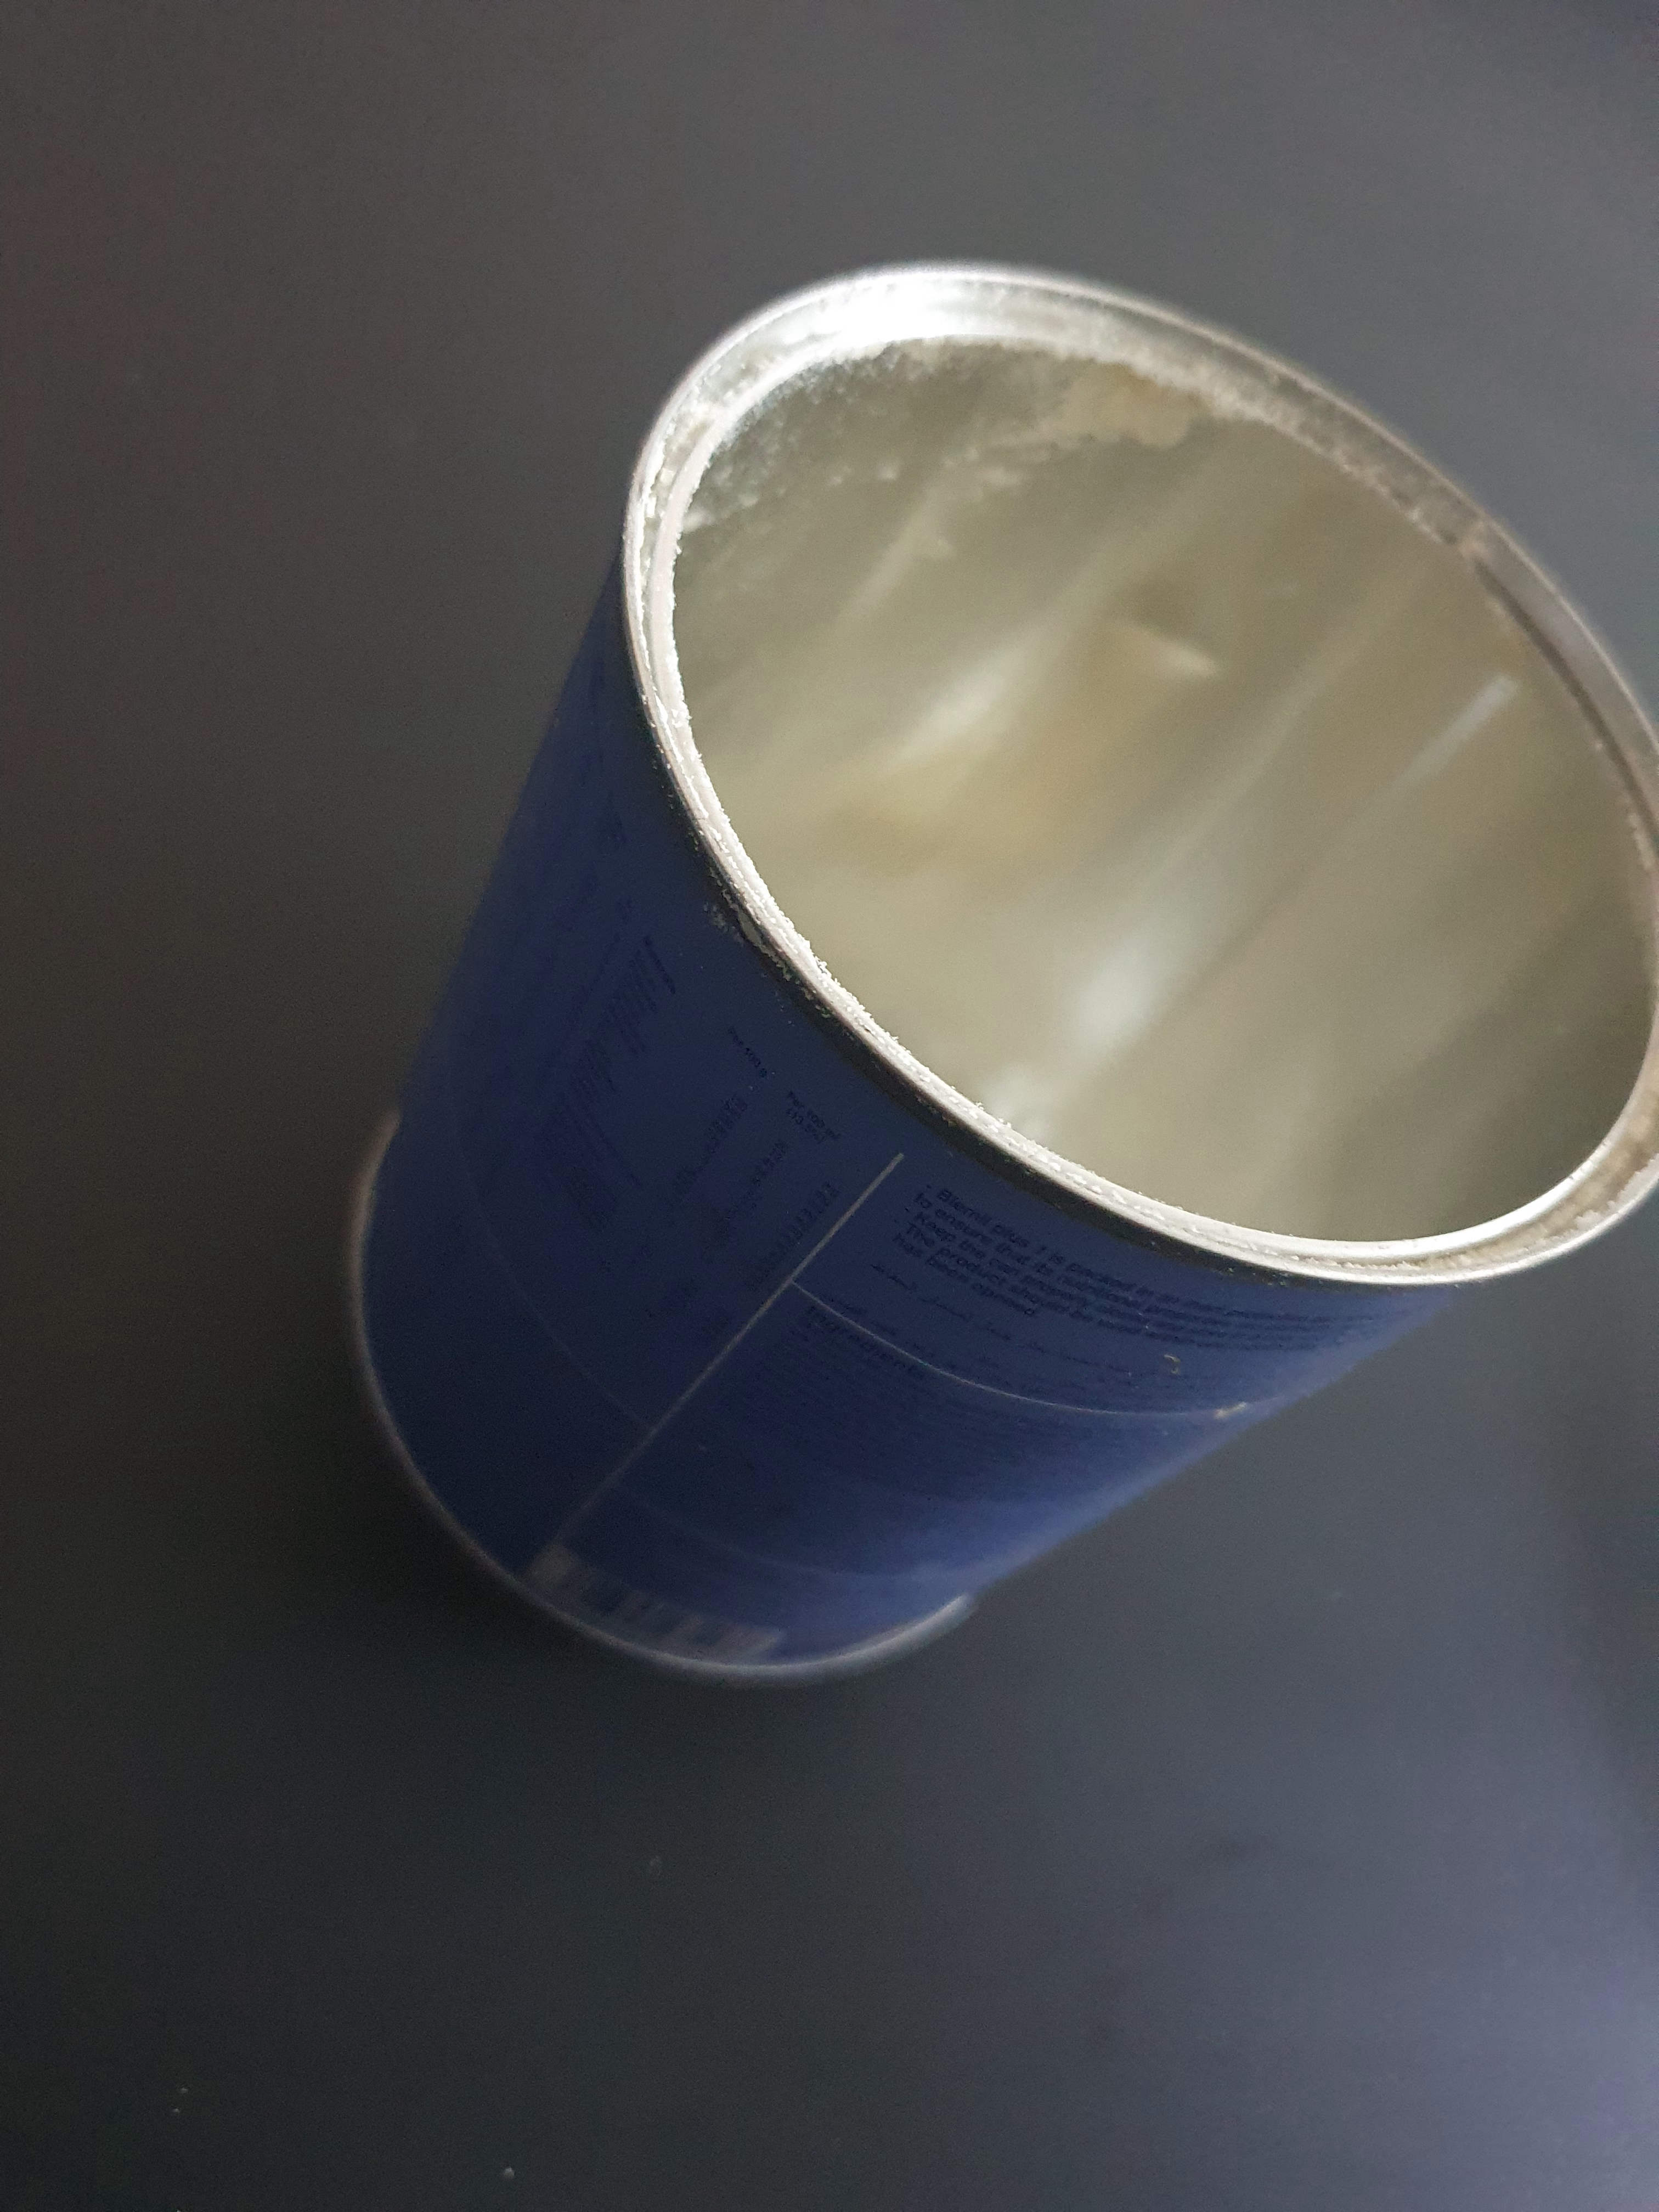metal: (314, 207, 1659, 1752)
